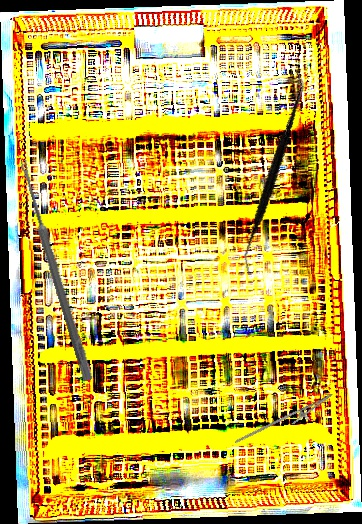Needle Holder: (234, 382, 338, 461)
Spatula Surgical: (196, 68, 348, 275)
Surgical Spoon: (16, 159, 95, 382)
